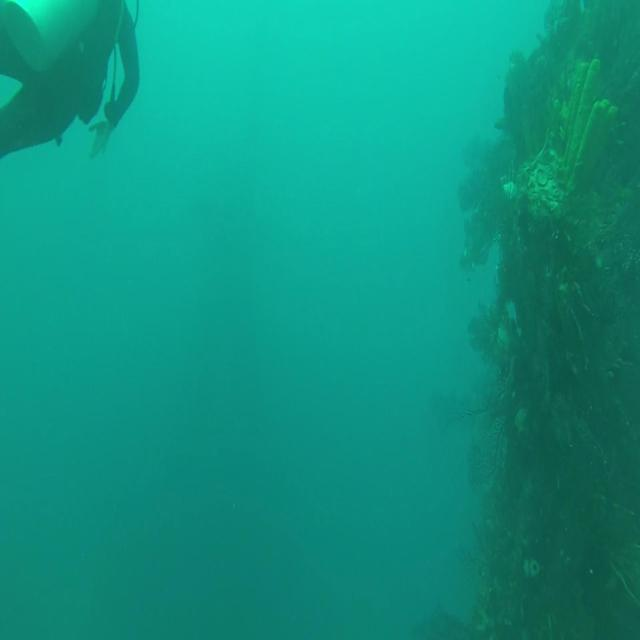human: (0, 0, 140, 161)
